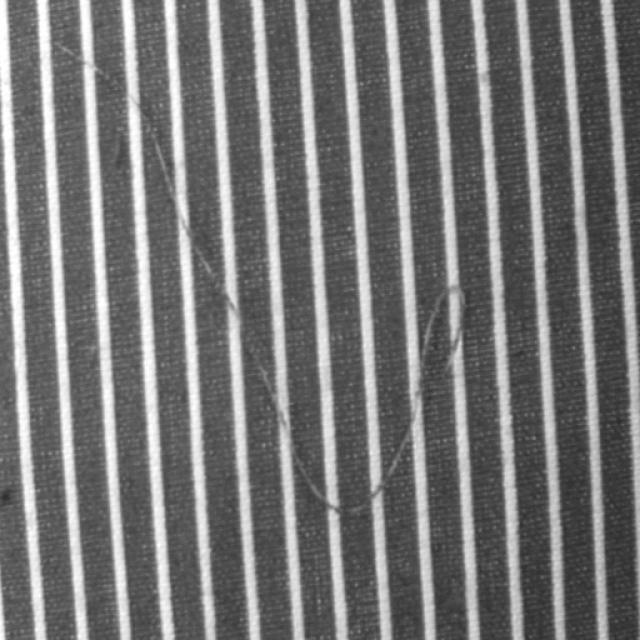Foreign-Body-Defect: (250, 288, 464, 518), (180, 212, 239, 319), (55, 42, 112, 84), (151, 140, 178, 199)
